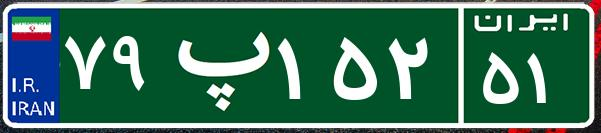1: (273, 28, 330, 110), (525, 38, 570, 115)
2: (385, 28, 445, 110)
5: (330, 28, 385, 110), (475, 38, 525, 113)
7: (57, 26, 110, 107)
9: (110, 28, 158, 105)
پ: (158, 15, 273, 115)
